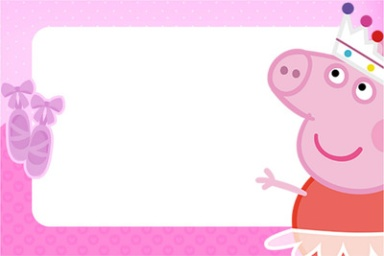Peppa: (253, 2, 384, 234)
